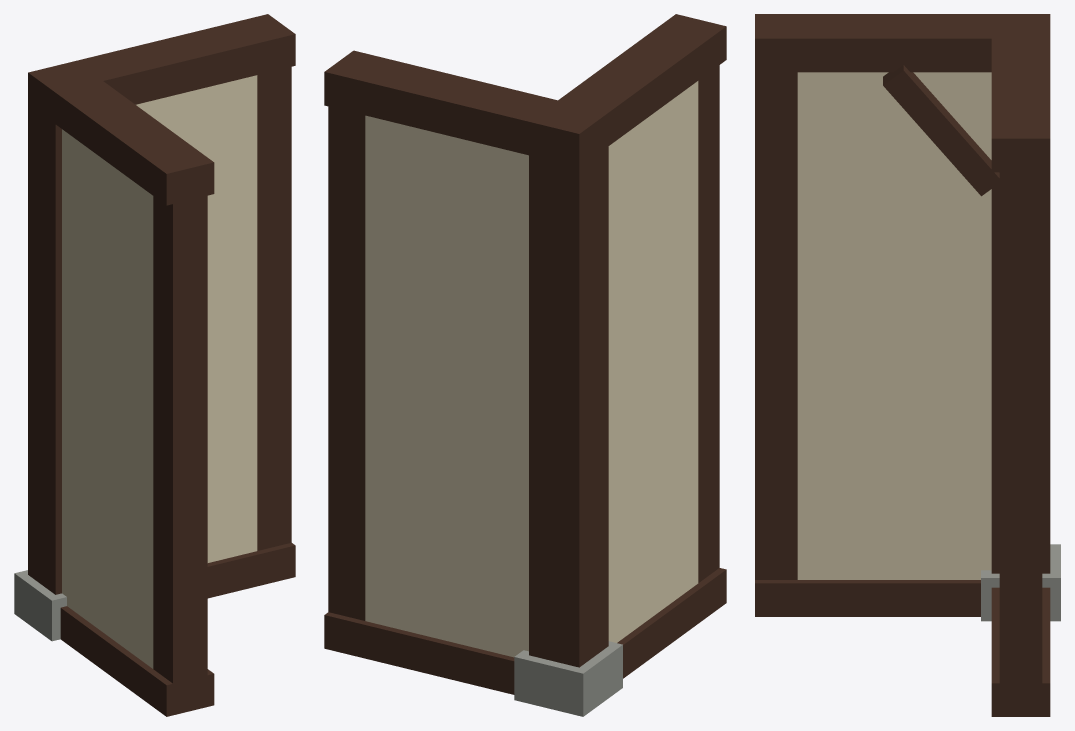
The model's file is 921_half_bay_outer_timber_corner.fbx.
3 renders of one model, left to right at view 1: azimuth 30°, elevation 25°; view 2: azimuth 150°, elevation 25°; view 3: azimuth 270°, elevation 25°, orthographic. The views are drawn at different scales.
Parts seen in each view (by area): view 1: 921_half_bay_outer_timber_corner; view 2: 921_half_bay_outer_timber_corner; view 3: 921_half_bay_outer_timber_corner.
Part boxes in pixels (x1=…): 921_half_bay_outer_timber_corner: x1=14, y1=14, x2=295, y2=716; 921_half_bay_outer_timber_corner: x1=324, y1=14, x2=726, y2=716; 921_half_bay_outer_timber_corner: x1=755, y1=14, x2=1060, y2=716.
Bounding box in the file's own units: 1.15 × 2.4 × 1.15.
Materials: 1 (1 with a texture image).
